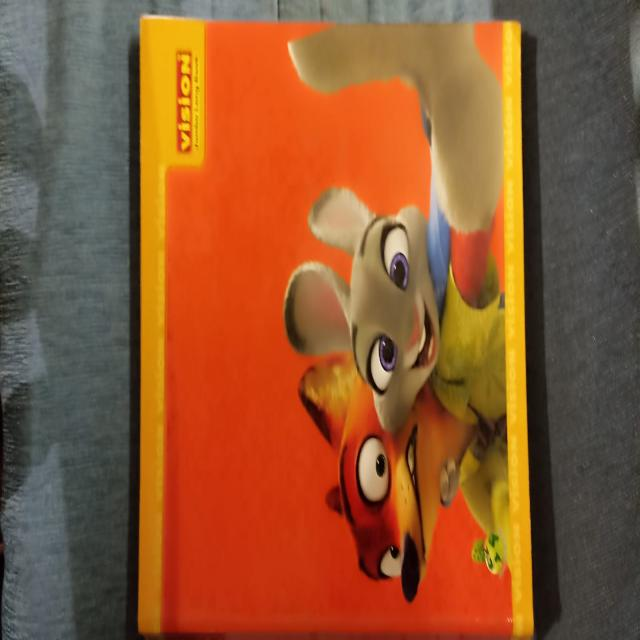book: (137, 10, 534, 640)
